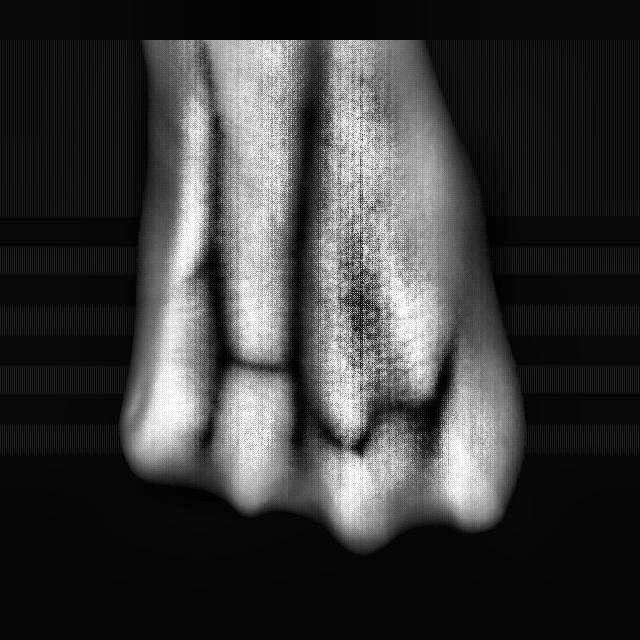Vein: (284, 109, 332, 321)
